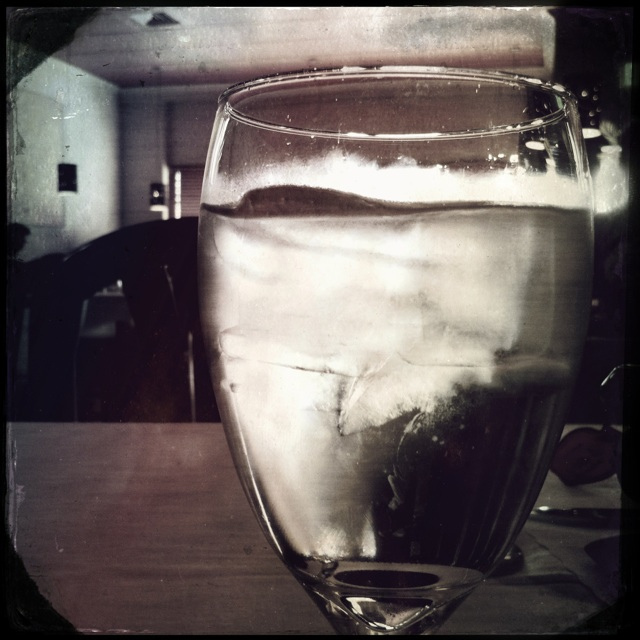glass of water: (207, 83, 597, 629)
